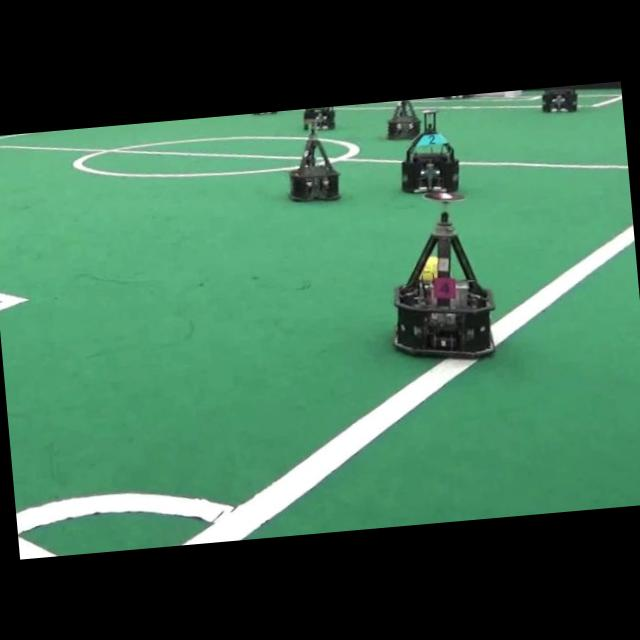robot: (394, 212, 493, 357), (401, 109, 459, 193), (289, 123, 338, 201), (387, 100, 420, 140), (541, 85, 576, 111), (304, 106, 333, 130)
